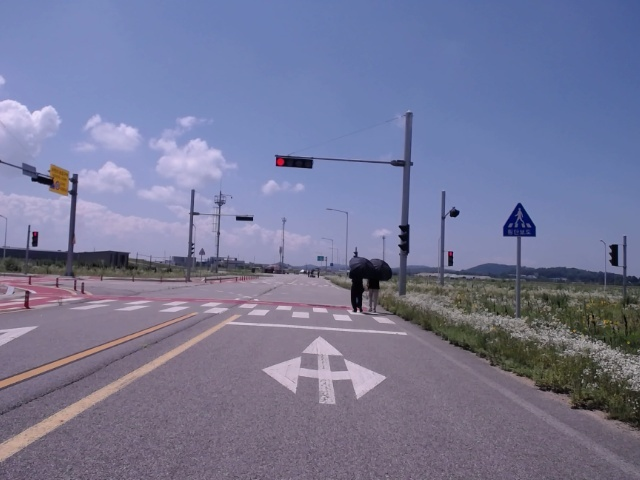red_4: (276, 158, 313, 169)
